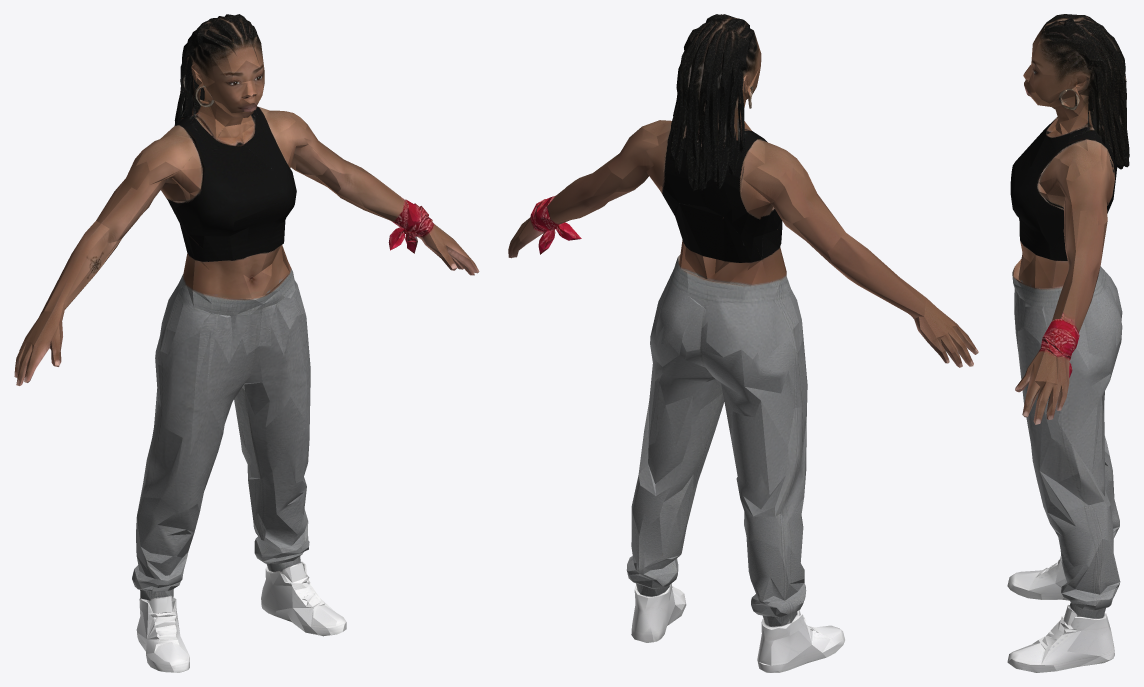
File: image3d.glb
3 views of the same model, side by side, from view 1: azimuth 30°, elevation 25°; view 2: azimuth 150°, elevation 25°; view 3: azimuth 270°, elevation 25° (orthographic). The views are drawn at different scales.
Bounding box in the file's own units: 1.47 × 1.9 × 0.3428.
1 material, 1 textured.
